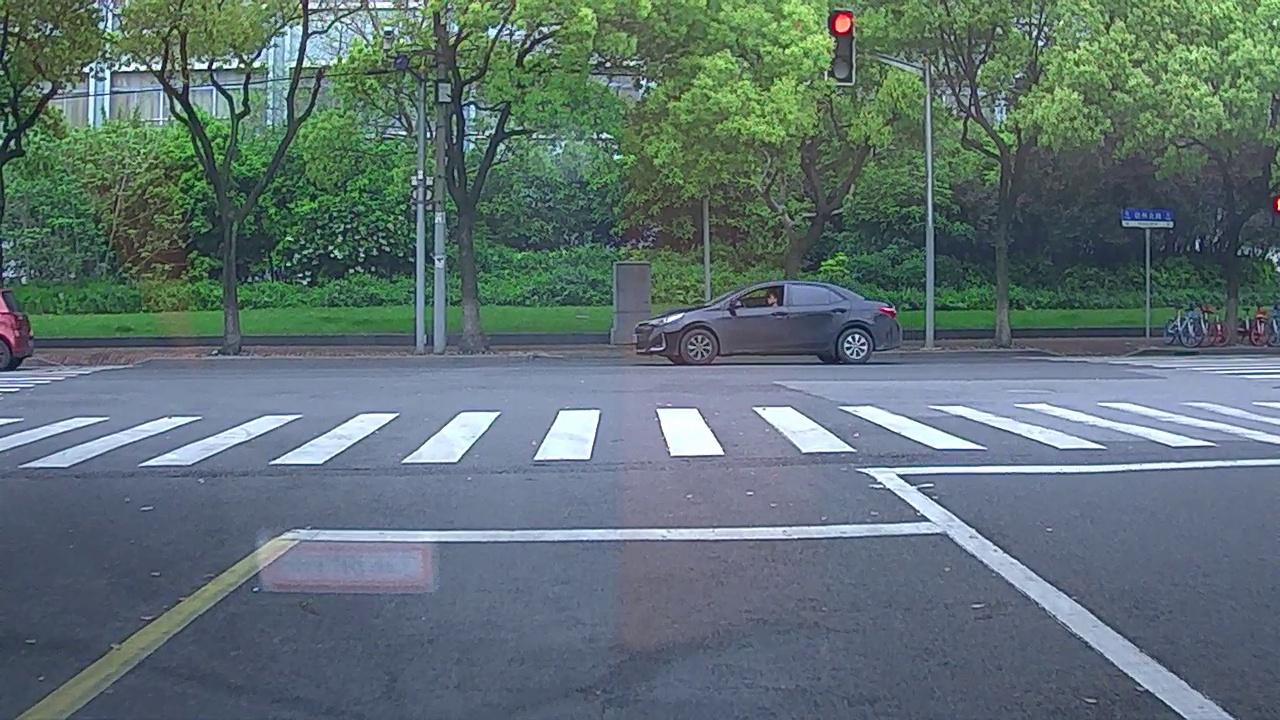traffic_light: (828, 11, 851, 87)
